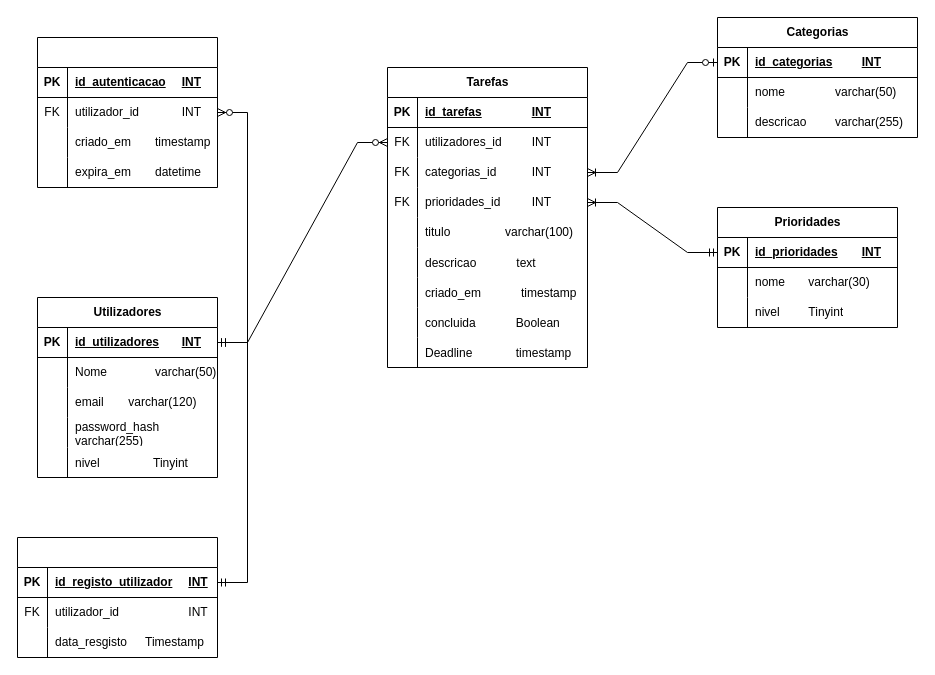
The diagram is 935 pixels wide and 675 high, and some of its shapes have lost their labels. The box of each missing label's shape, as (x1, y1, x2, y2) in pixels:
Registo_utilizadores: (16, 536, 218, 658)
Tokens_autenticacao: (36, 36, 218, 188)
